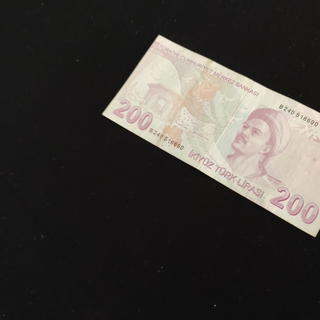200TLBack: (101, 33, 320, 237)
